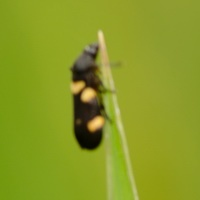insect: (71, 43, 108, 148)
